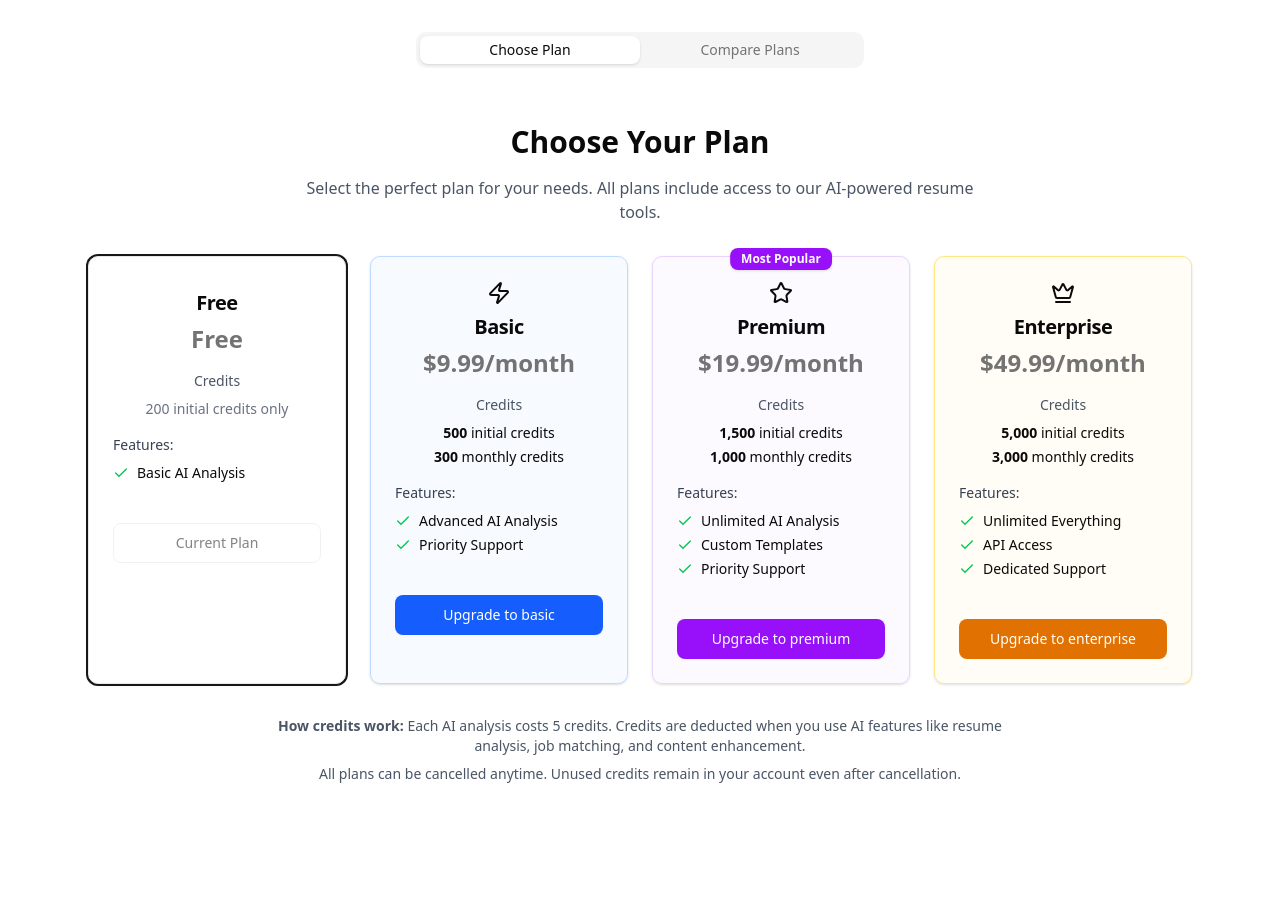
SubscriptionManagement › switches between plan selection and comparison tabs
Click on Compare Plans tab
Step 1. Click the tab "Compare Plans" → point(750, 50), box [640, 36, 860, 64]
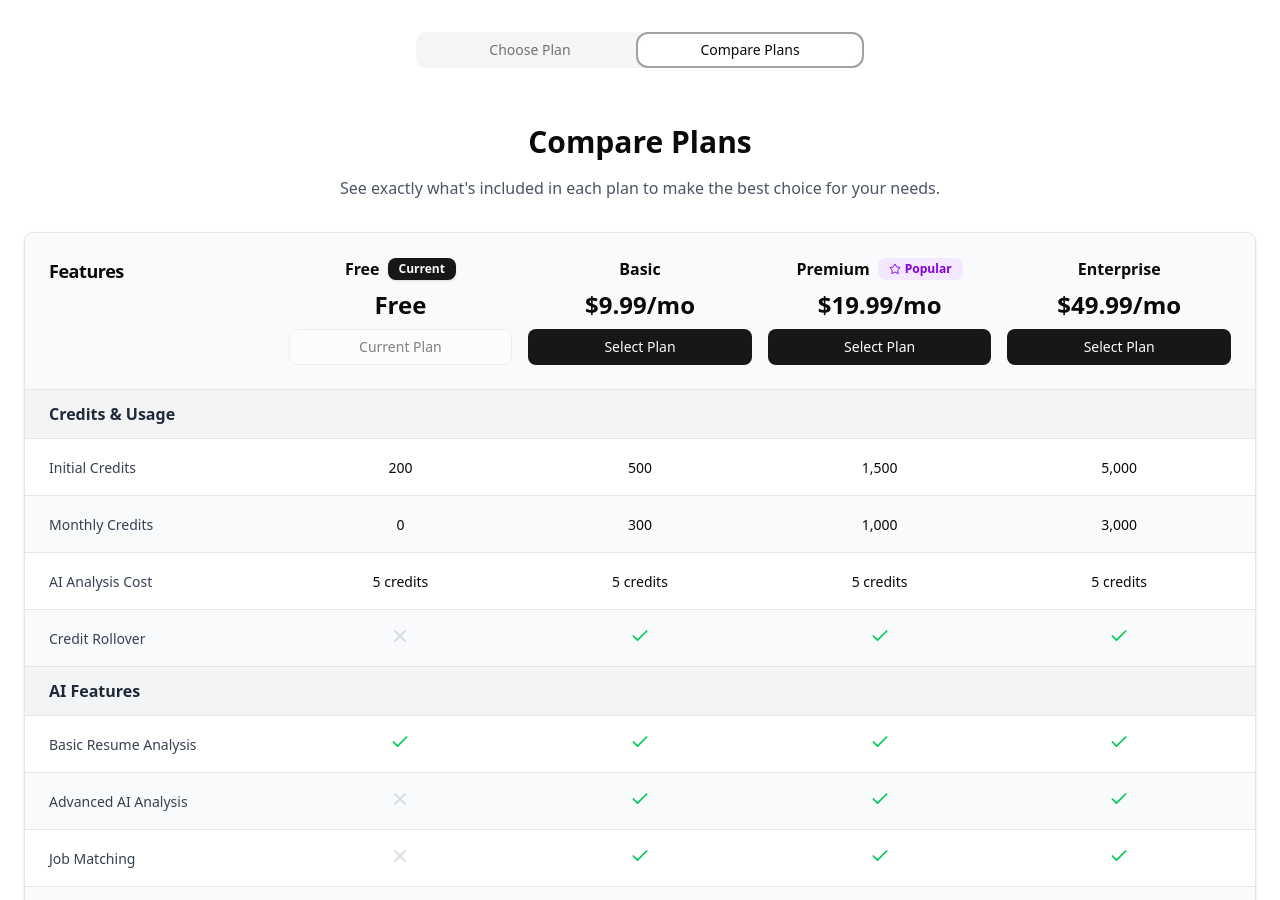
Check: the text "Features" is shown, box [49, 259, 124, 283]
Switch back to Choose Plan tab
Step 2. Click the tab "Choose Plan" → point(530, 50), box [420, 36, 640, 64]
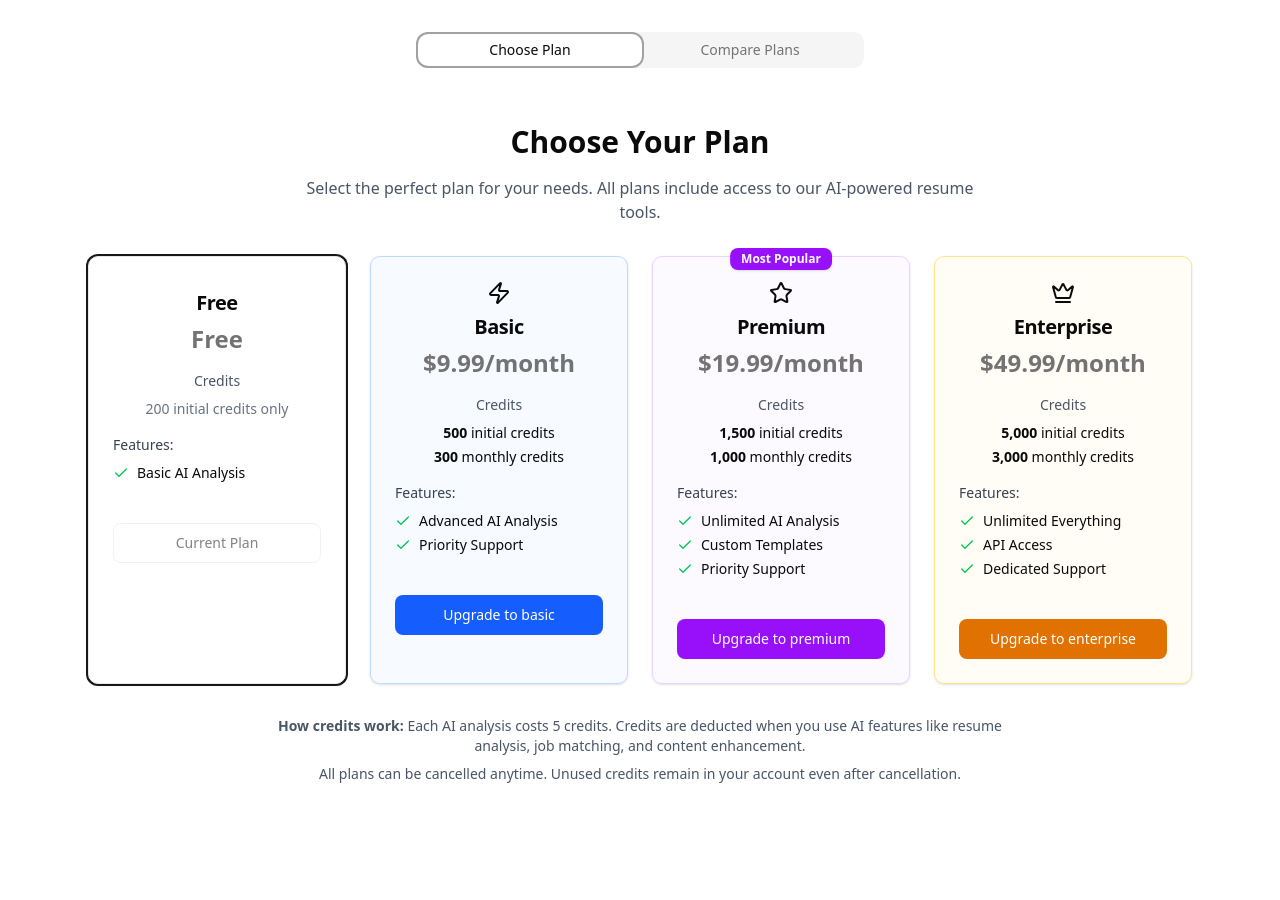
Check: the button "Upgrade to basic" is shown, box [395, 595, 603, 635]
